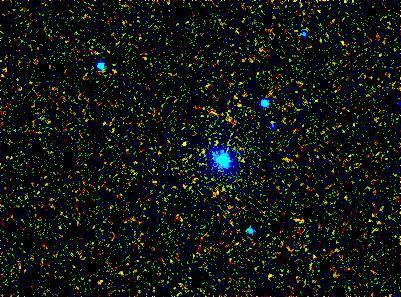star: (168, 127, 198, 157)
